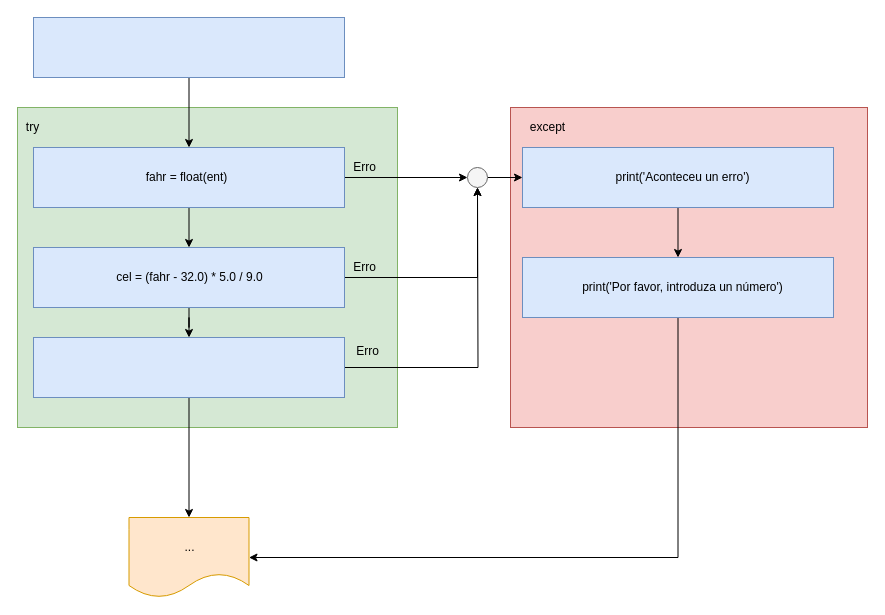
Some shapes in this 885 by 615 pixel diagram are drawn without their labels. The shapes that lost their labels are listed below. From the top down, each one's centre as x and y in pixels, then its label:
At (188,47): "ent = input('Introduza a Temperatura Fahrenheit:')".
At (188,367): "print(cel)".
